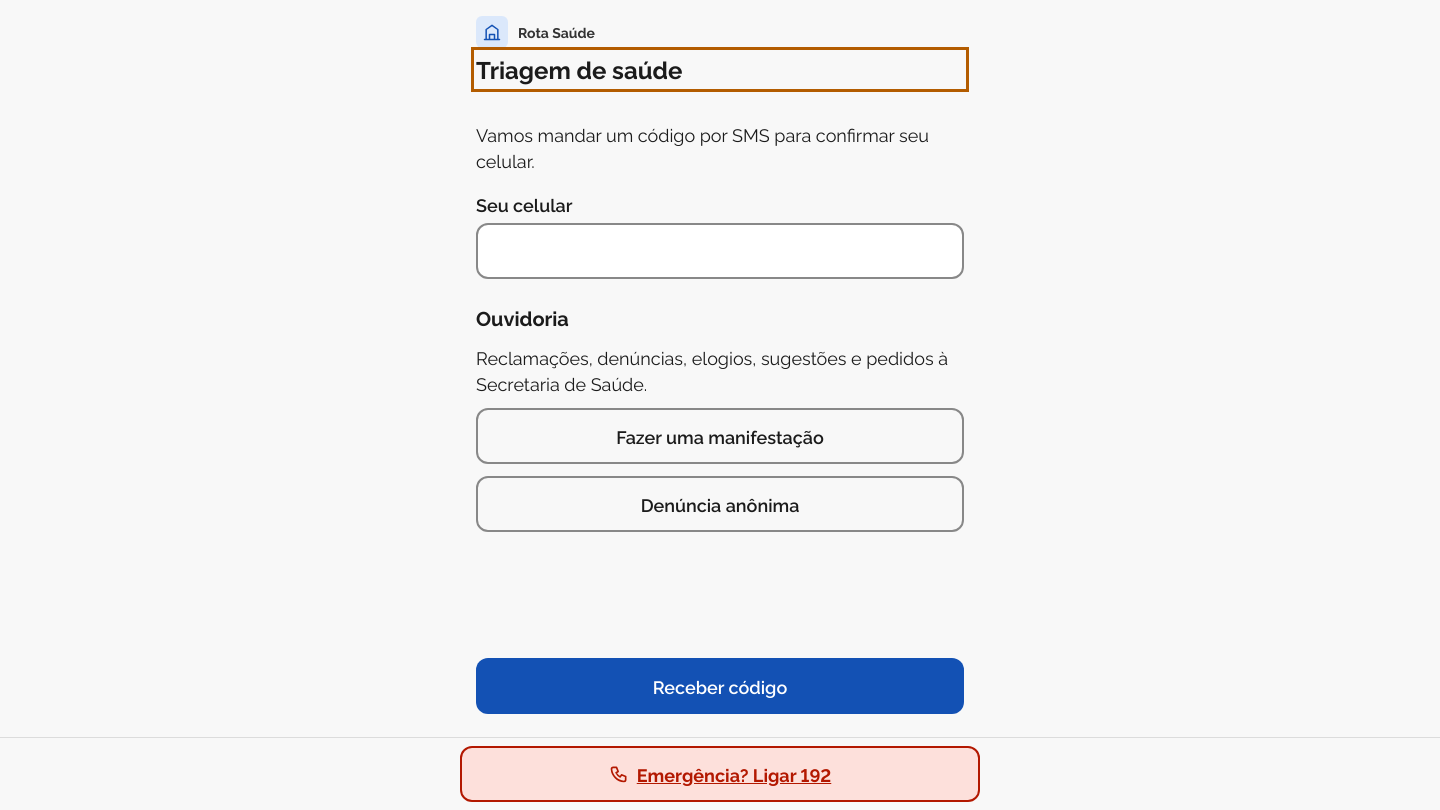
Test case: Flow — Ouvidoria (módulo 33) › celular da Ouvidoria: frase própria, sem a entrada; Voltar esquece o destino e o login segue para o termo
This screenshot has width=1440, height=810.
Click the button "Fazer uma manifestação" at (720, 436), box [476, 408, 964, 464]
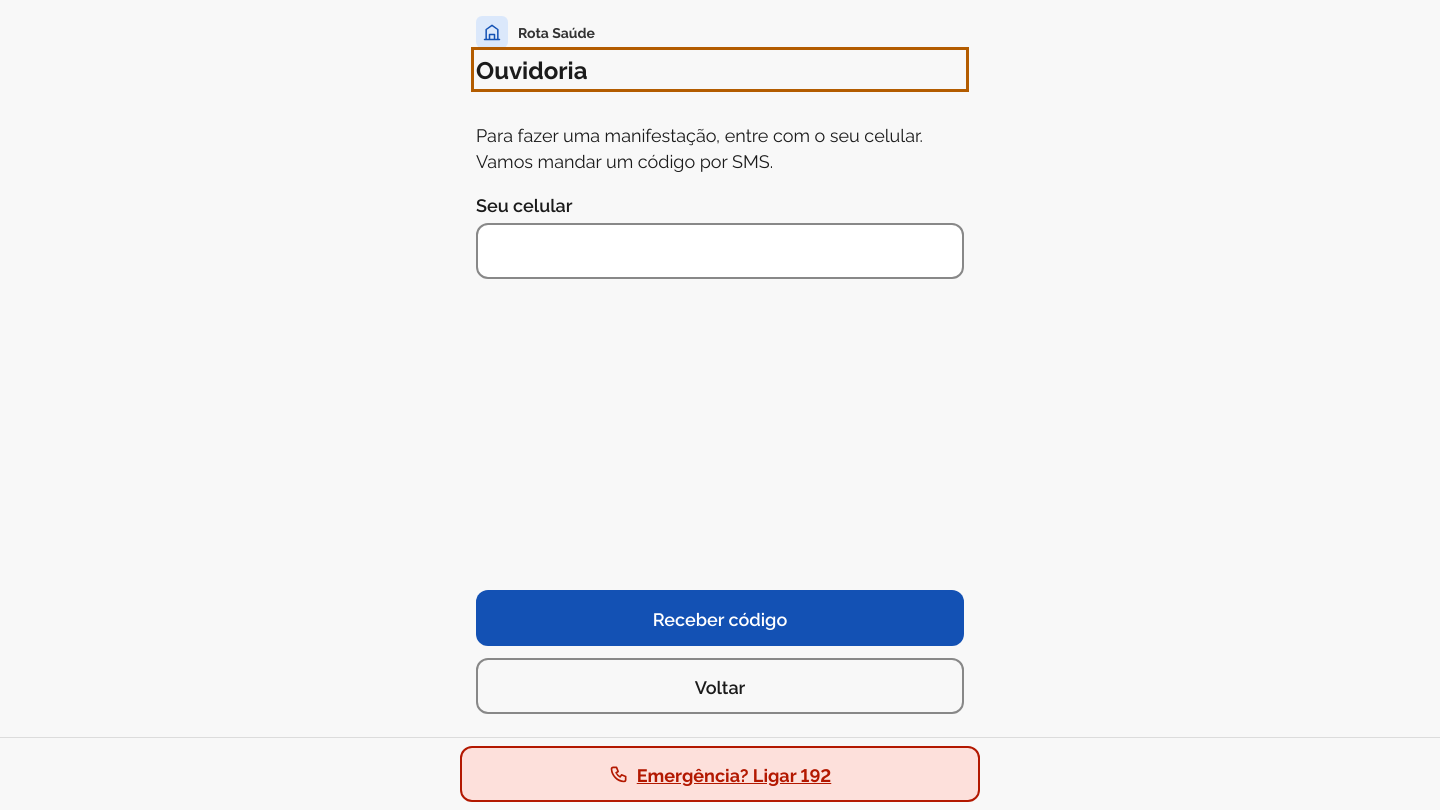
Now the heading "Ouvidoria" is shown, box [476, 52, 587, 85]
Now the text "Para fazer uma manifestação, entre com o seu celular. Vamos mandar um código por SMS." is shown, box [476, 121, 923, 172]
Now the button "Denúncia anônima" is gone
Click the button "Voltar" at (720, 686), box [476, 658, 964, 714]
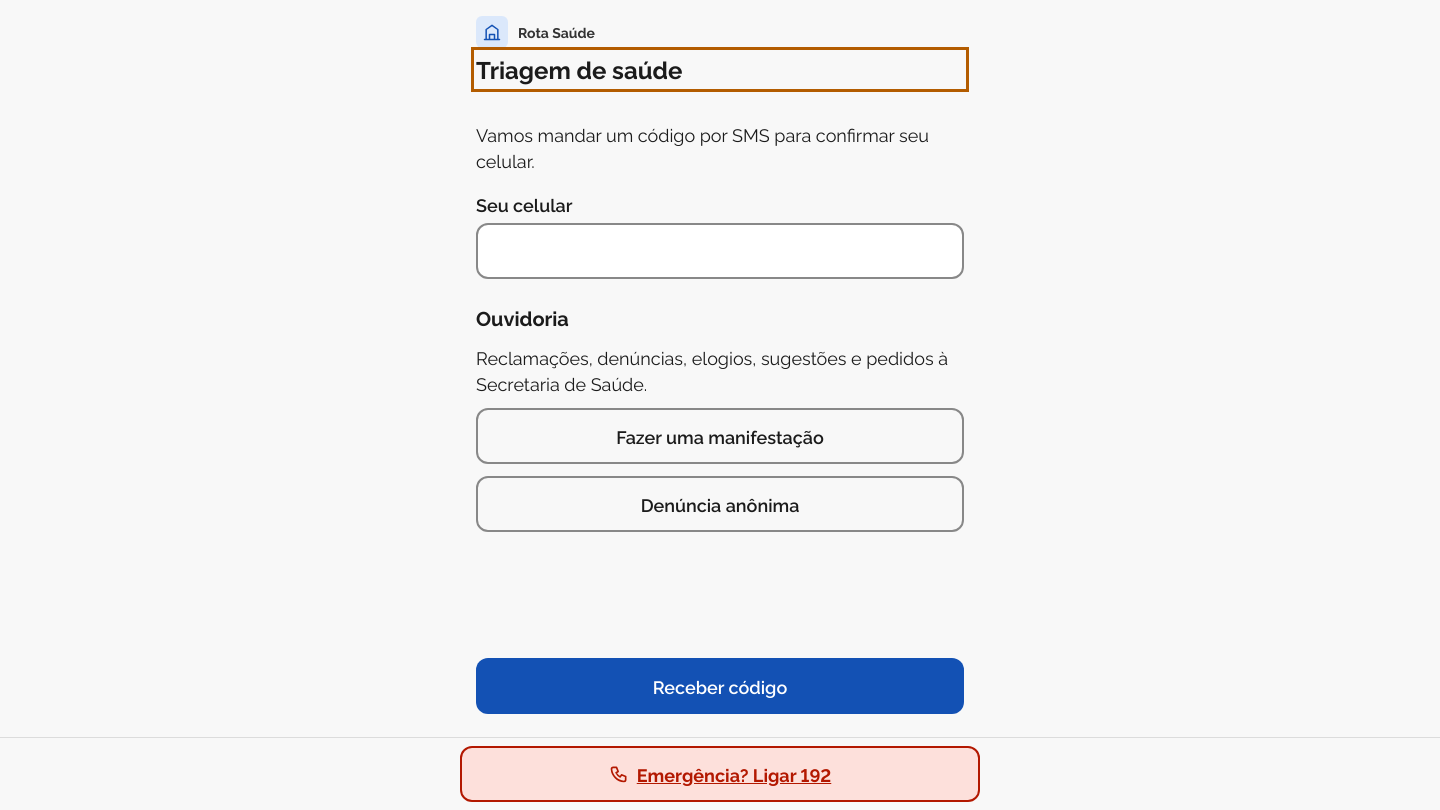
Now the heading "Triagem de saúde" is shown, box [476, 52, 682, 85]
Type "41998765432" into the field labelled "Seu celular" at (720, 251), box [476, 223, 964, 279]
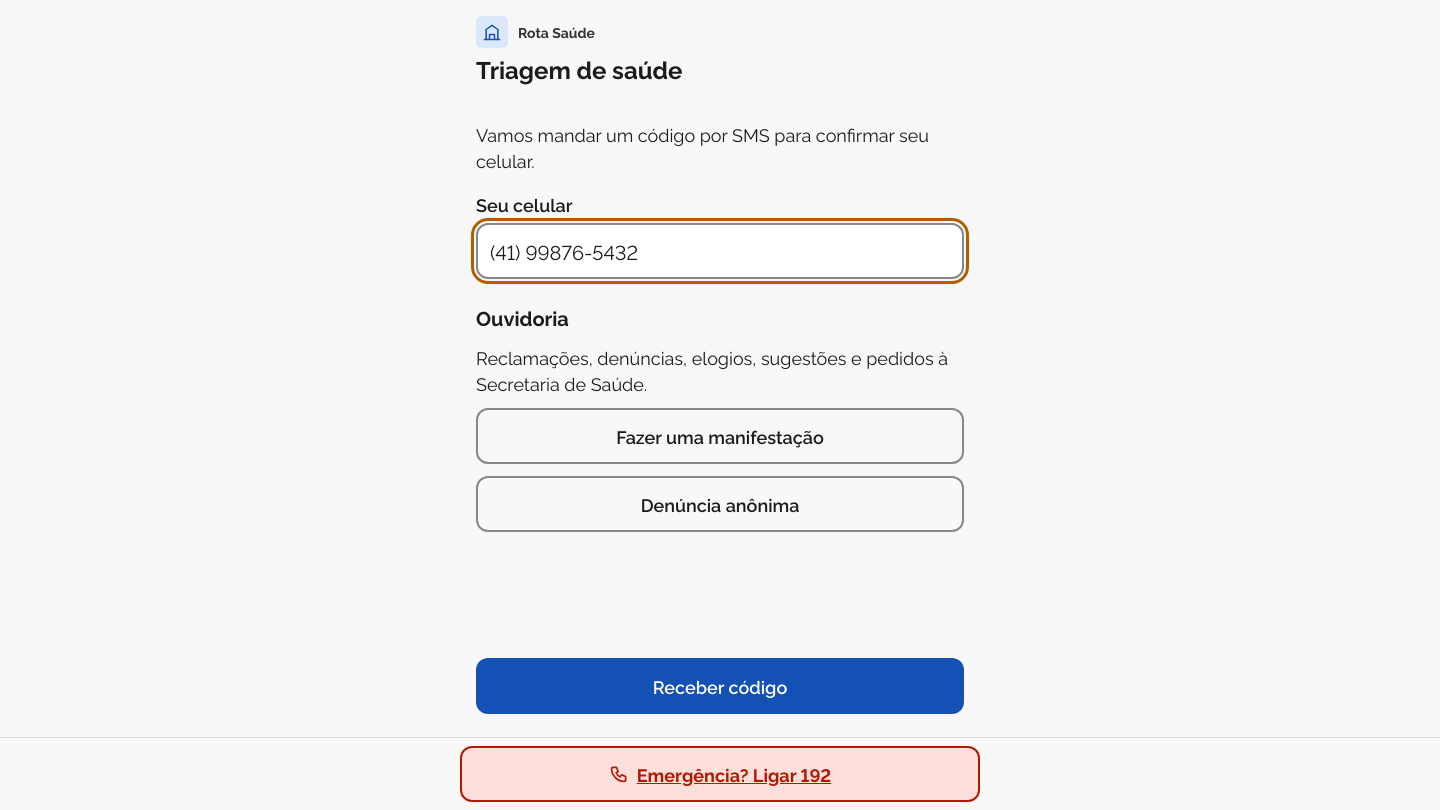
Click the button "Receber código" at (720, 686), box [476, 658, 964, 714]
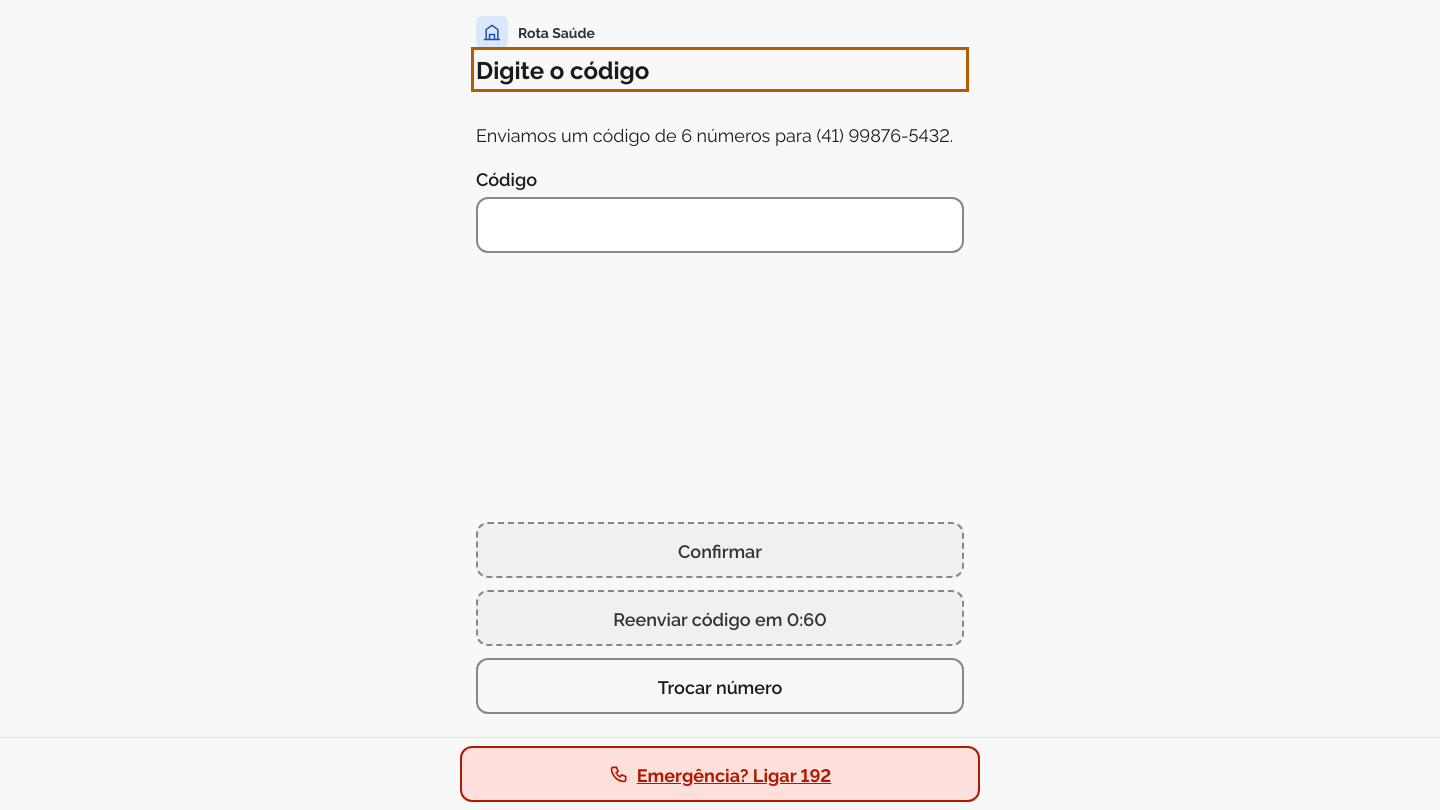
Type "123456" into the field labelled "Código" at (720, 225), box [476, 197, 964, 253]
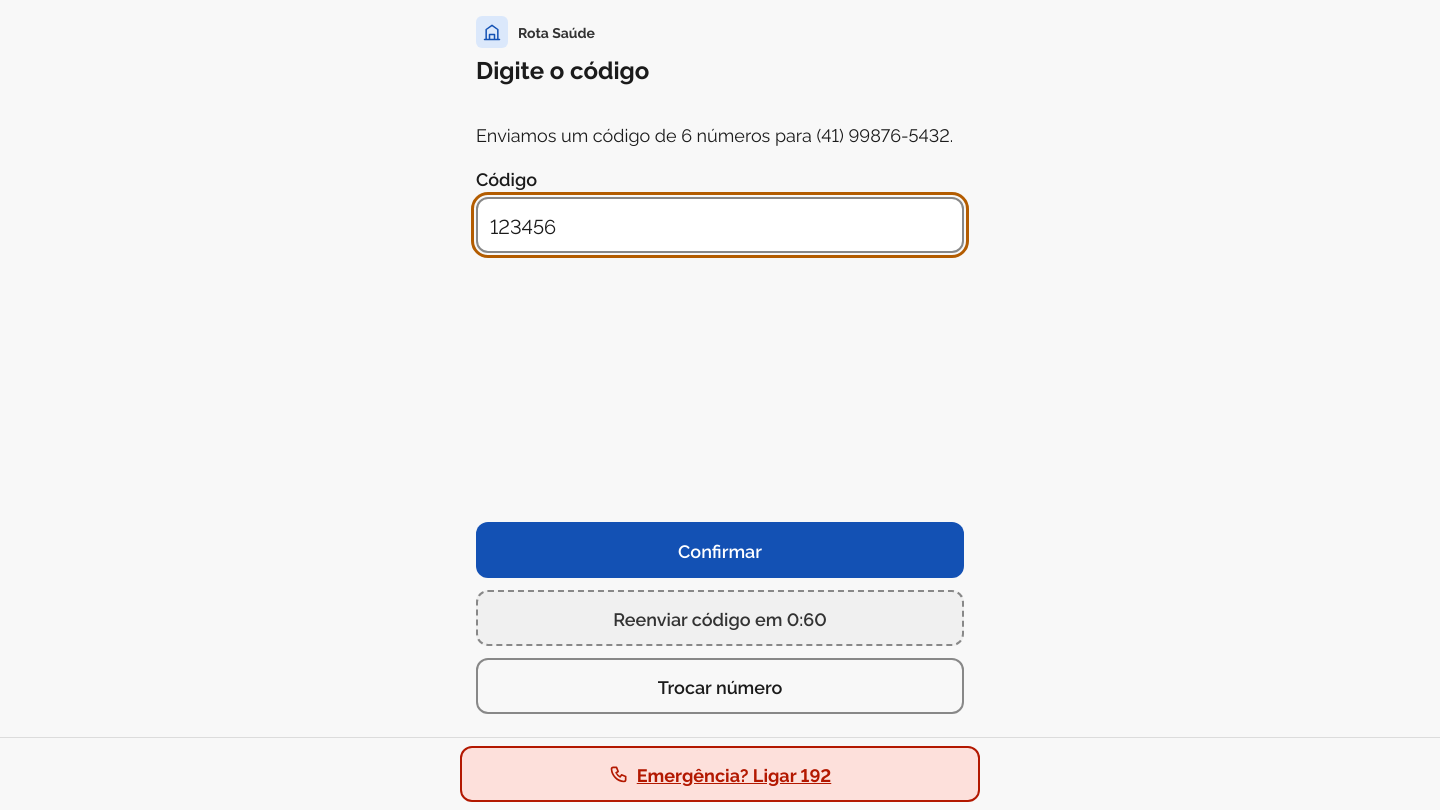
Click the button "Confirmar" at (720, 550), box [476, 522, 964, 578]
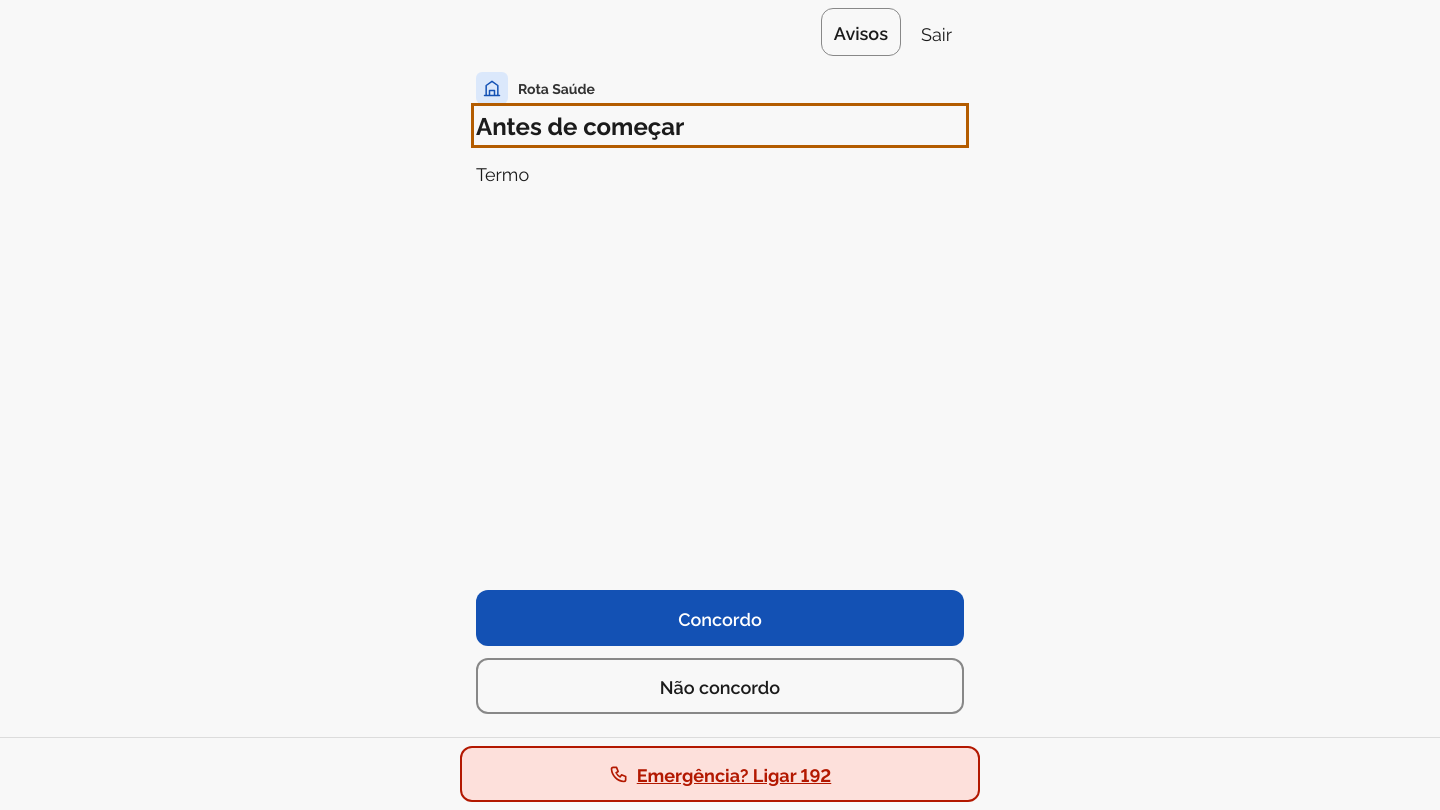
Now the heading "Antes de começar" is shown, box [476, 108, 684, 141]
